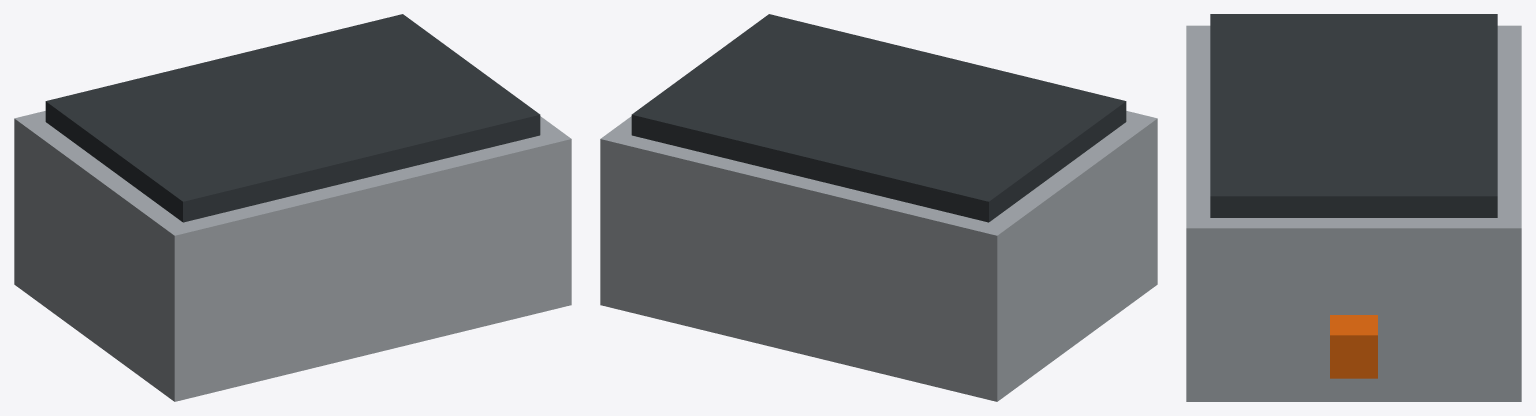
File: inverter_large.glb
3 views of the same model, side by side, from view 1: azimuth 30°, elevation 25°; view 2: azimuth 150°, elevation 25°; view 3: azimuth 270°, elevation 25° (orthographic). The views are drawn at different scales.
Parts seen in each view (by area): view 1: body:compound; view 2: body:compound; view 3: body:compound.
Boxes of the visible parts, x1,y1,x2,y2 form: body:compound: [14, 14, 571, 401]; body:compound: [600, 14, 1157, 401]; body:compound: [1186, 14, 1521, 401].
Size of the model in its own units: 0.6875 by 0.2812 by 0.4375.
